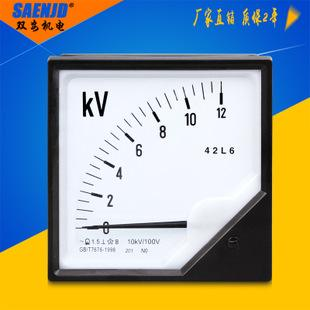pointer: (57, 68, 263, 269)
